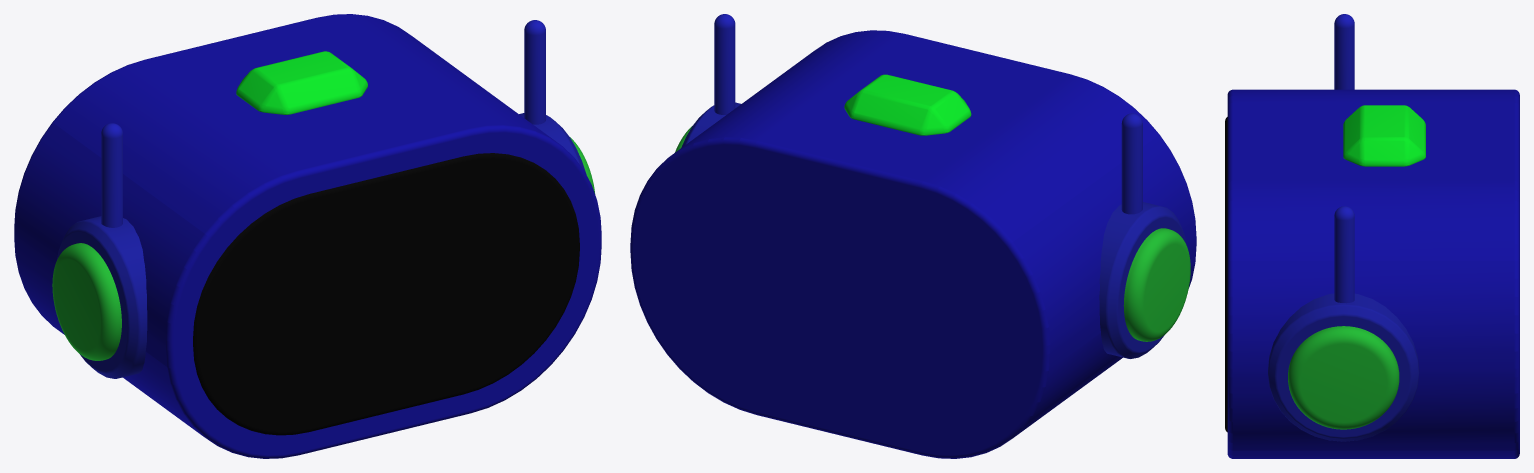
3 renders of one model, left to right at view 1: azimuth 30°, elevation 25°; view 2: azimuth 150°, elevation 25°; view 3: azimuth 270°, elevation 25°, orthographic. The views are drawn at different scales.
Parts seen in each view (by area): view 1: Cube001, Cube001_1, Cylinder, Cylinder001, Cube002, Cylinder002; view 2: Cube001, Cylinder, Cylinder001, Cube002, Cylinder002; view 3: Cube001, Cylinder001, Cylinder, Cube002, Cylinder002, Cube001_1.
Part boxes in pixels (box(x1,y1,x2,y2)): Cube001: box(14, 14, 601, 458); Cube001_1: box(193, 153, 579, 435); Cylinder: box(57, 113, 586, 378); Cylinder001: box(52, 137, 595, 360); Cube002: box(236, 51, 367, 114); Cylinder002: box(101, 20, 545, 227); Cube001: box(630, 30, 1196, 458); Cylinder: box(681, 102, 1186, 358); Cylinder001: box(675, 126, 1190, 341); Cube002: box(844, 74, 971, 135); Cylinder002: box(714, 14, 1142, 214); Cube001: box(1227, 89, 1519, 458); Cylinder001: box(1288, 326, 1399, 429); Cylinder: box(1268, 293, 1419, 441); Cube002: box(1343, 105, 1425, 166); Cylinder002: box(1334, 14, 1354, 303); Cube001_1: box(1225, 117, 1227, 432).
Bounding box in the file's own units: 3.63 × 2.35 × 2.02.
